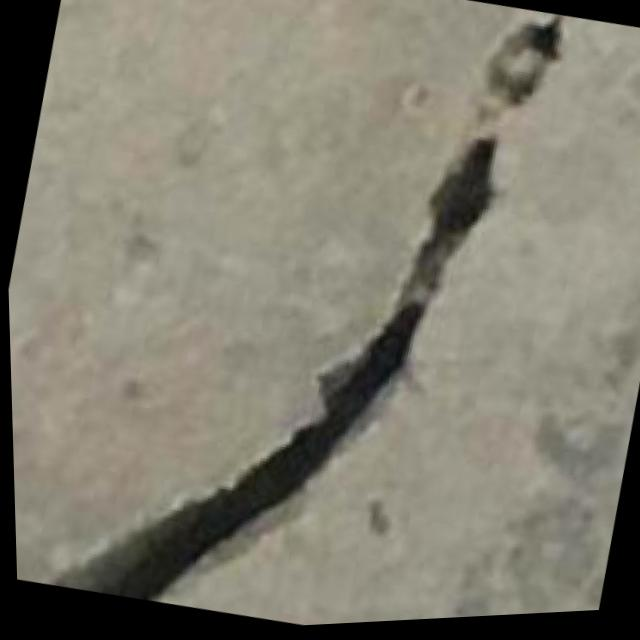Crack: (28, 0, 584, 639)
